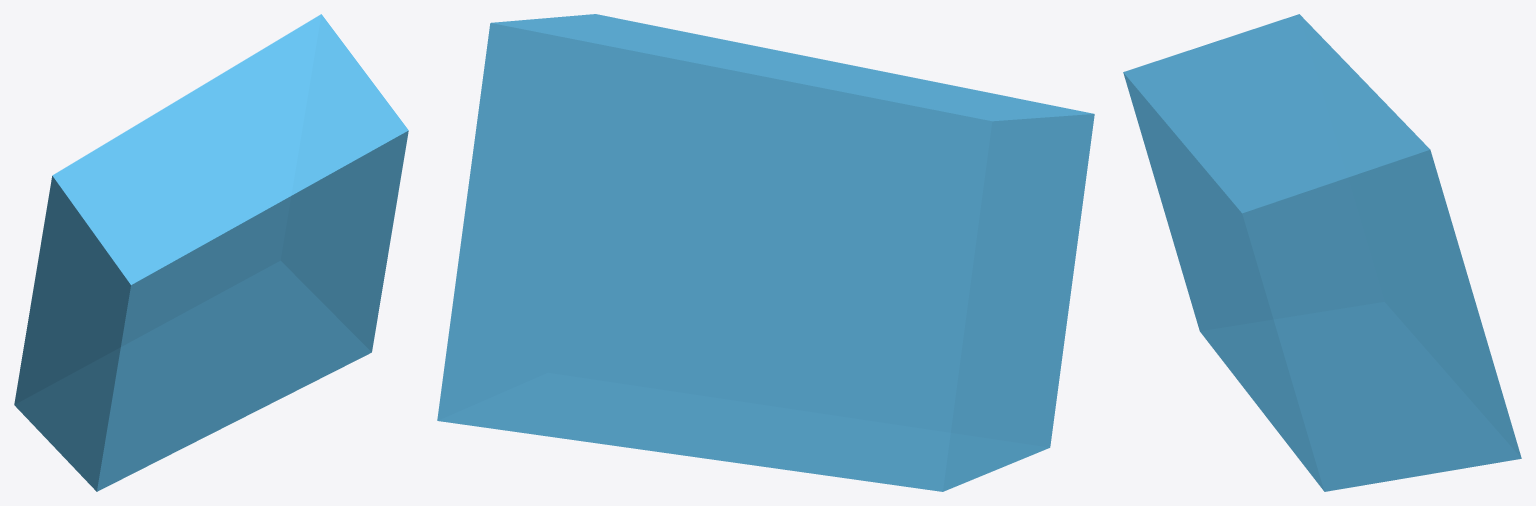
Rendered from Event_421556567_HErechit_26.fbx.
The picture shows the model from 3 angles, left to right: view 1: azimuth 30°, elevation 25°; view 2: azimuth 150°, elevation 25°; view 3: azimuth 270°, elevation 25°; orthographic projection. The views are drawn at different scales.
Visible parts, largest first — view 1: Model; view 2: Model; view 3: Model.
Part boxes in pixels (x1,y1,x2,y2): Model: [14, 14, 408, 491]; Model: [437, 14, 1094, 491]; Model: [1123, 14, 1521, 491].
Size of the model in its own units: 0.7586 by 0.7065 by 0.7079.
